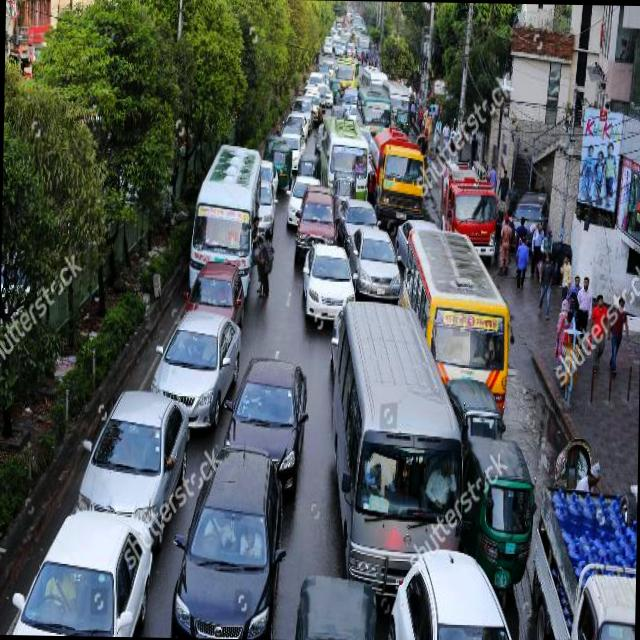bus: (333, 301, 462, 549), (405, 225, 509, 385), (219, 144, 259, 304), (194, 170, 245, 260), (321, 116, 366, 194), (356, 85, 389, 126), (384, 78, 409, 108), (360, 64, 386, 84), (338, 59, 354, 85), (356, 32, 367, 56), (340, 28, 349, 36)
car: (208, 443, 286, 635), (170, 511, 282, 635), (84, 401, 176, 544), (391, 551, 516, 639), (62, 512, 150, 630), (117, 375, 189, 493), (247, 354, 305, 496), (234, 386, 302, 501), (168, 330, 222, 425), (150, 362, 221, 428), (301, 242, 352, 321), (181, 271, 243, 330), (18, 542, 66, 618), (348, 224, 398, 294), (298, 183, 336, 241), (338, 195, 380, 242), (258, 177, 276, 240), (282, 130, 302, 169), (288, 170, 298, 220), (286, 108, 306, 130), (392, 221, 404, 257), (315, 82, 333, 104), (396, 216, 438, 224), (346, 102, 354, 118), (322, 39, 331, 51), (334, 43, 341, 53)
motorcycle: (552, 434, 602, 484), (414, 129, 429, 161)
truck: (538, 480, 636, 638), (439, 154, 499, 257), (368, 124, 424, 224), (512, 183, 546, 240), (295, 92, 312, 126), (342, 86, 355, 113), (308, 69, 322, 81), (322, 57, 332, 71), (346, 41, 354, 53)
